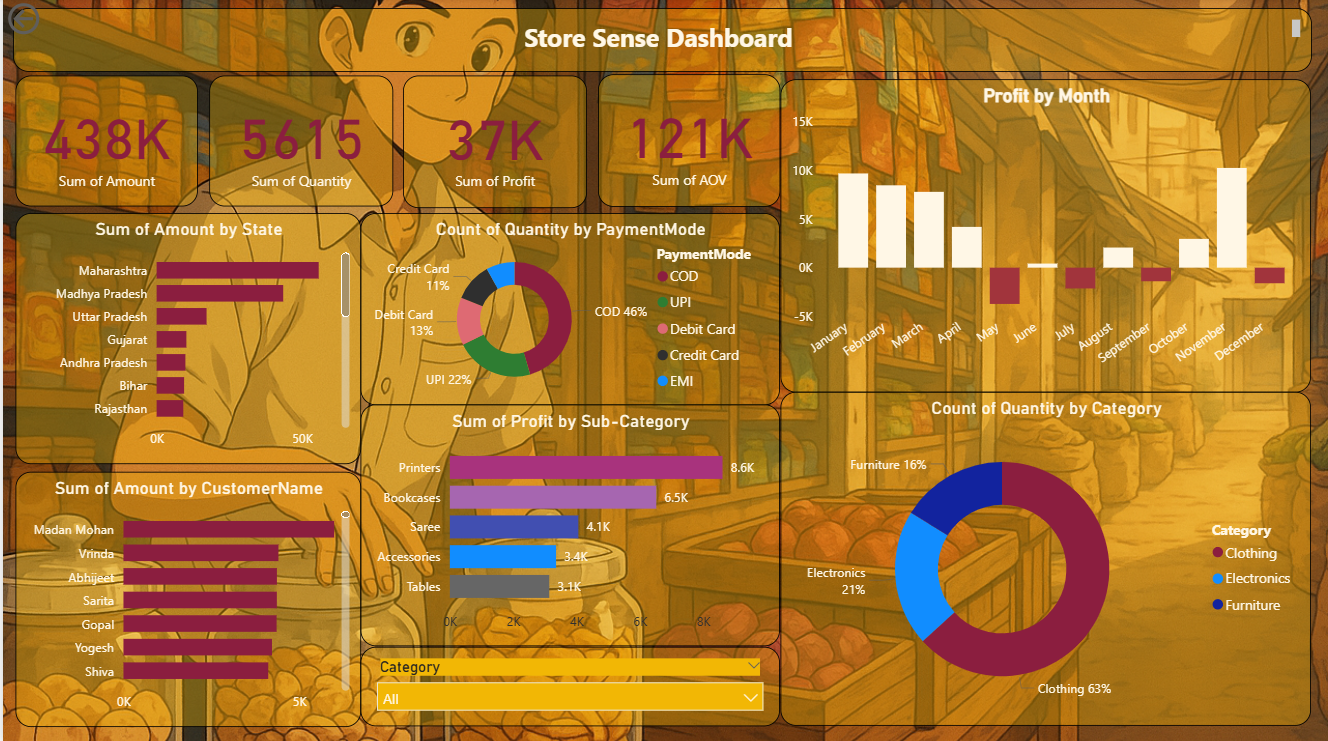

The dashboard page shown, as its layout file describes it:
{"tool":"powerbi","page":{"name":"Page 1","canvas":[1280,720],"ordinal":0},"visuals":[{"type":"textbox","box":[9.7,9.7,1253.5,61.5],"z":0},{"type":"columnChart","title":"Profit by Month","fields":{"Y":["Details.Profit"],"Category":["Orders.Order Date.Variation.Date Hierarchy.Month"]},"box":[750.4,78,512.4,302.6],"z":1000},{"type":"barChart","fields":{"Category":["Details.Sub-Category"],"Y":["Details.Profit"]},"box":[345.6,392.7,404.8,234],"z":2000},{"type":"donutChart","fields":{"Category":["Details.Category"],"Y":["Details.Quantity"]},"box":[750.4,380.6,512.4,322.8],"z":3000},{"type":"donutChart","fields":{"Category":["Details.PaymentMode"],"Y":["Details.Quantity"]},"box":[345.6,207.1,404.8,185.6],"z":4000},{"type":"card","fields":{"Values":["Details.Amount"]},"box":[12.1,75.3,176.2,126.4],"z":5000},{"type":"card","fields":{"Values":["Details.Quantity"]},"box":[199,75.3,177.5,126.4],"z":6000},{"type":"card","fields":{"Values":["Details.Profit"]},"box":[386,75.3,177.5,127.8],"z":7000},{"type":"card","fields":{"Values":["Details.AOV"]},"box":[574.2,74,176.2,127.8],"z":8000},{"type":"barChart","fields":{"Category":["Orders.State"],"Y":["Details.Amount"]},"box":[12.1,207.1,333.5,242.1],"z":9000},{"type":"barChart","fields":{"Category":["Orders.CustomerName"],"Y":["Details.Amount"]},"box":[12.1,457.2,333.5,246.1],"z":10000},{"type":"slicer","fields":{"Values":["Details.Category"]},"box":[345.6,626.7,404.8,76.7],"z":11000},{"type":"actionButton","box":[0,0,100,40],"z":12000}]}

Visuals, with their boxes in screenshot pixels (x1, y1, x2, y2), scaled from the page's 1280x720 canvas onto the 1328x741 screenshot:
textbox: <region>10, 10, 1311, 73</region>
"Profit by Month" columnChart: <region>779, 80, 1310, 392</region>
barChart - Details.Sub-Category x Details.Profit: <region>359, 404, 779, 645</region>
donutChart - Details.Category x Details.Quantity: <region>779, 392, 1310, 724</region>
donutChart - Details.PaymentMode x Details.Quantity: <region>359, 213, 779, 404</region>
card - Details.Amount: <region>13, 77, 195, 208</region>
card - Details.Quantity: <region>206, 77, 391, 208</region>
card - Details.Profit: <region>400, 77, 585, 209</region>
card - Details.AOV: <region>596, 76, 779, 208</region>
barChart - Orders.State x Details.Amount: <region>13, 213, 359, 462</region>
barChart - Orders.CustomerName x Details.Amount: <region>13, 471, 359, 724</region>
slicer - Details.Category: <region>359, 645, 779, 724</region>
actionButton: <region>0, 0, 104, 41</region>
